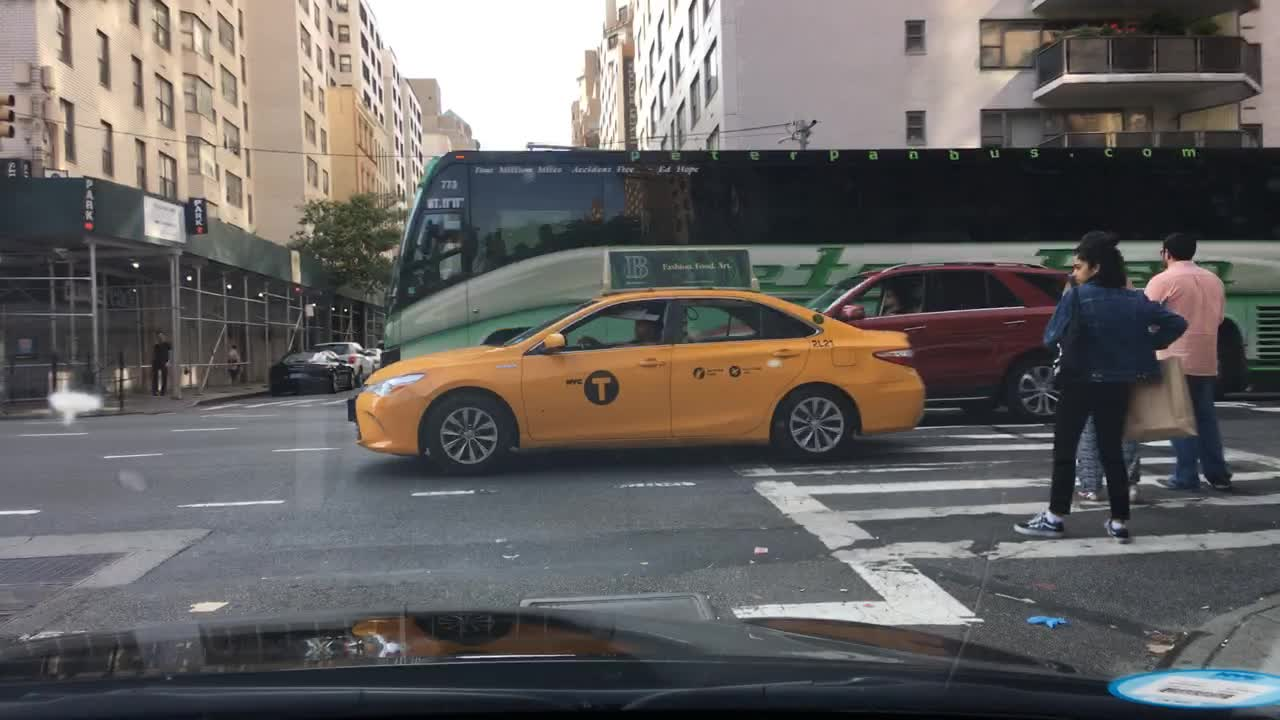bus: (380, 144, 1279, 400)
car: (347, 246, 926, 477), (803, 258, 1158, 423), (267, 346, 358, 397), (313, 340, 374, 388), (364, 344, 382, 368)
person: (1010, 229, 1188, 545), (1140, 231, 1234, 493), (1055, 230, 1144, 506), (147, 329, 174, 397), (223, 341, 246, 389)
